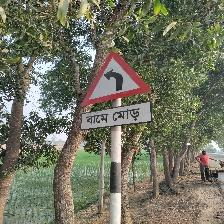Left-Turn: (79, 51, 153, 130)
